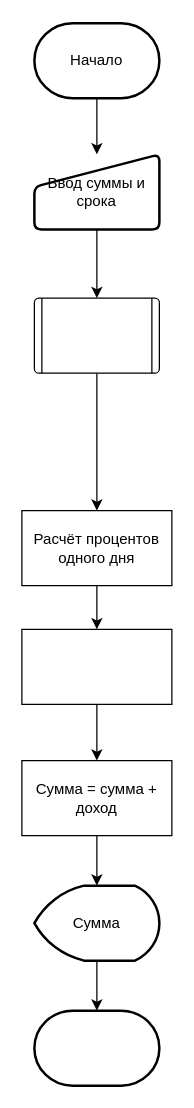
Image size: 194x1108. Some labels were removed from this diagram. The box of each missing label's shape, as (x1, y1, x2, y2) in pixels:
Конец: (32, 1009, 160, 1086)
Получение банковского процесса: (33, 297, 159, 373)
Расчёт дохода: (21, 628, 172, 704)
